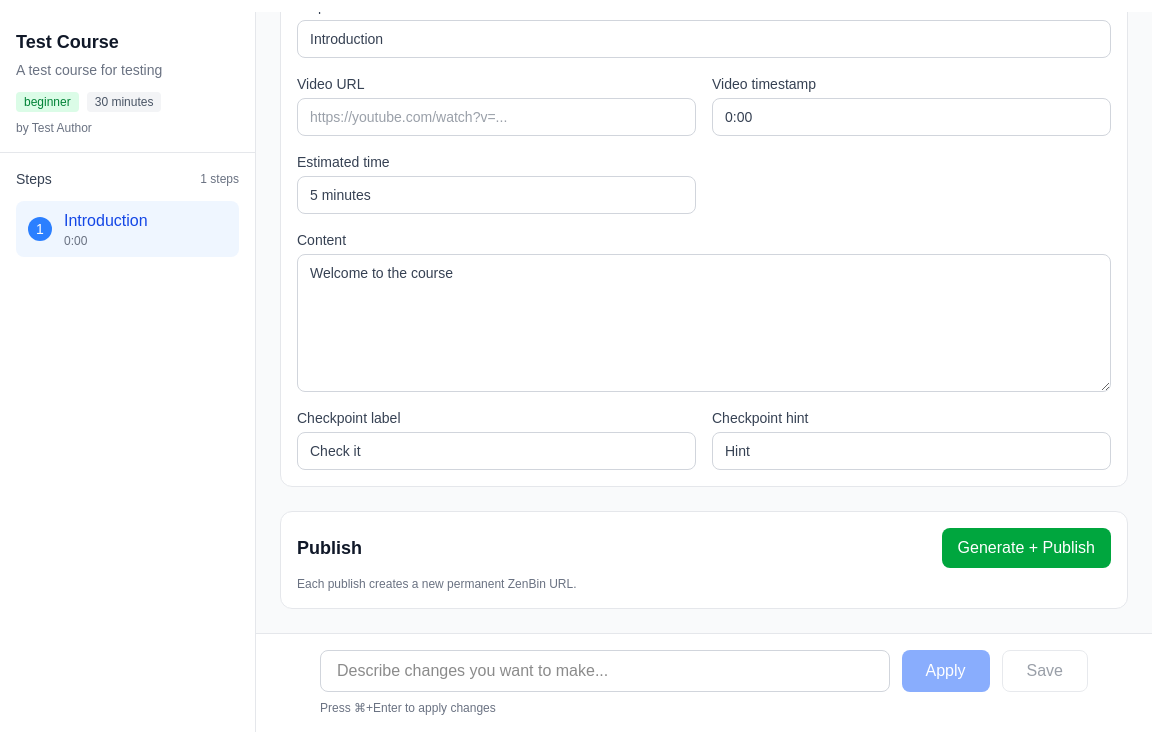
Test: EditStudio › publishes and persists publish metadata
(page scrolled)
Click the button "Generate + Publish" at [1026, 548], box [942, 528, 1111, 568]
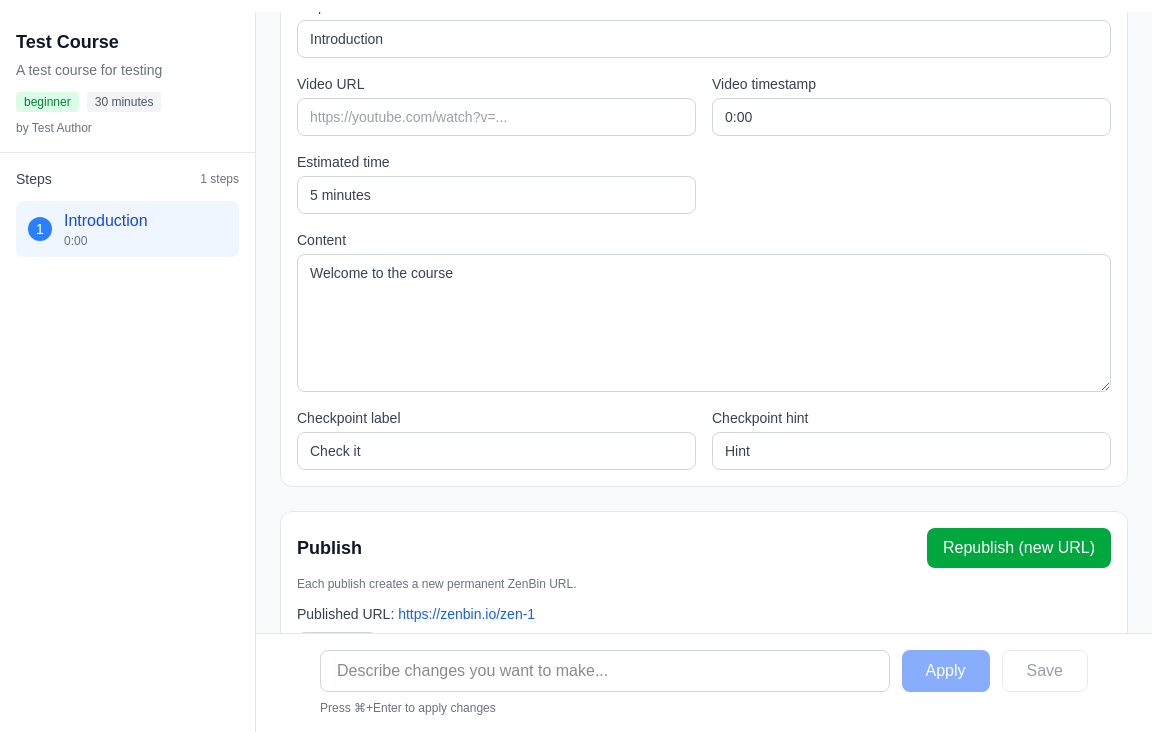
Expected: the link "https://zenbin.io/zen-1" is shown, [398, 606, 535, 622]
